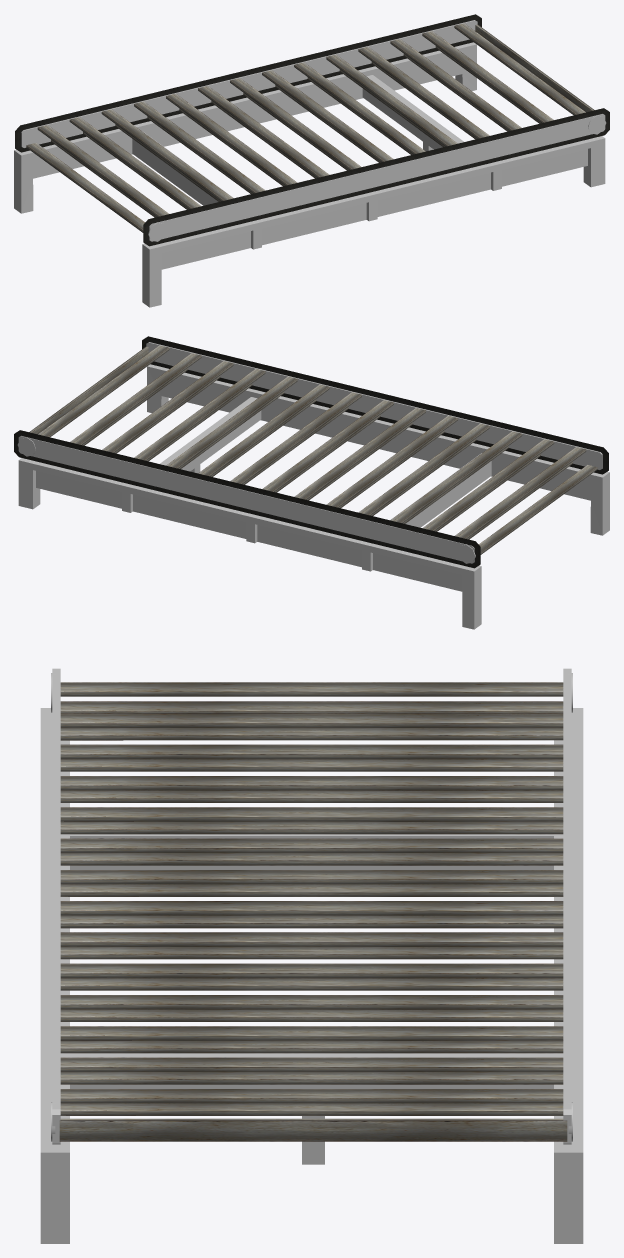
Rendered from SM_Machine_04.FBX.
3 views of the same model, one above another, from view 1: azimuth 30°, elevation 25°; view 2: azimuth 150°, elevation 25°; view 3: azimuth 270°, elevation 25° (orthographic). The views are drawn at different scales.
Parts seen in each view (by area): view 1: SM_Machine_04; view 2: SM_Machine_04; view 3: SM_Machine_04.
Boxes of the visible parts, x1,y1,x2,y2 form: SM_Machine_04: [14, 14, 609, 307]; SM_Machine_04: [14, 336, 609, 629]; SM_Machine_04: [40, 668, 583, 1243].
Bounding box in the file's own units: 3.79 × 0.6591 × 1.91.
